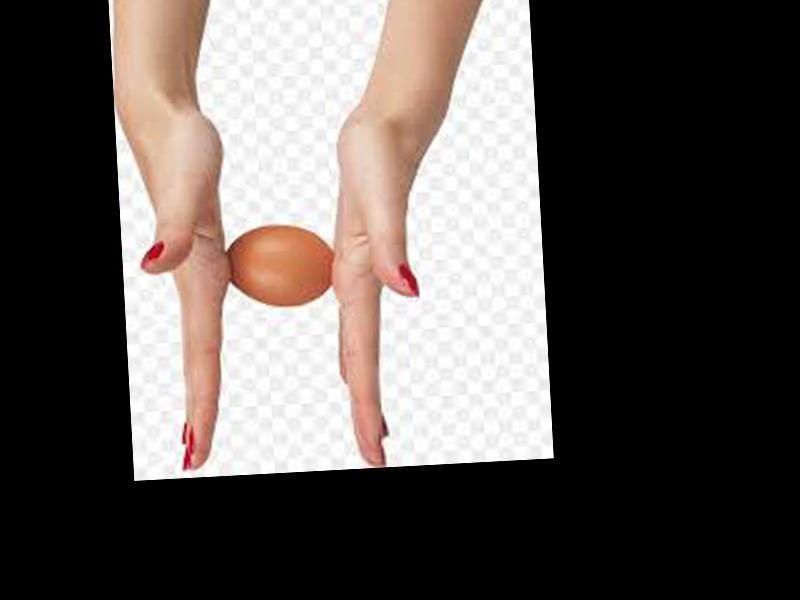Eggs: (226, 222, 336, 306)
